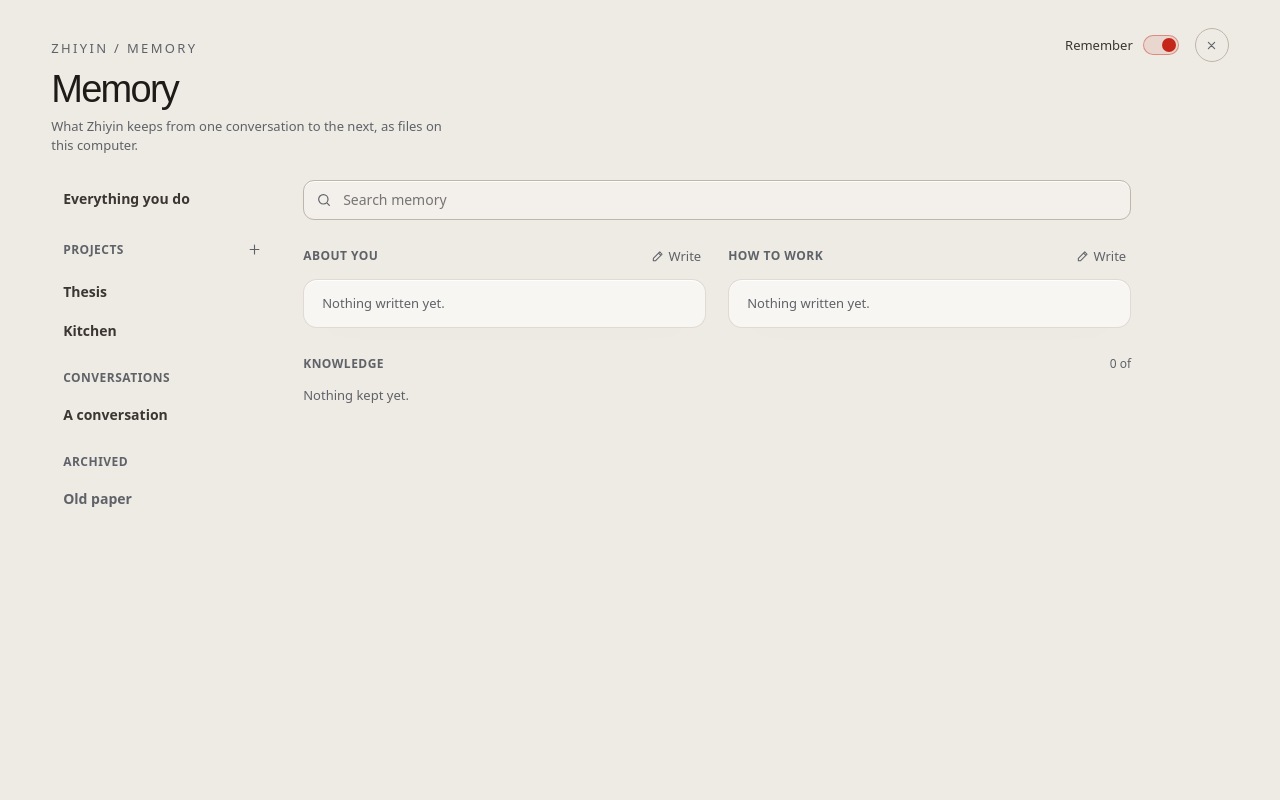
projects on the Memory page › says how a project without folders gathers its conversations
Click the button "Kitchen" at (161, 330), box [51,312,271,349]
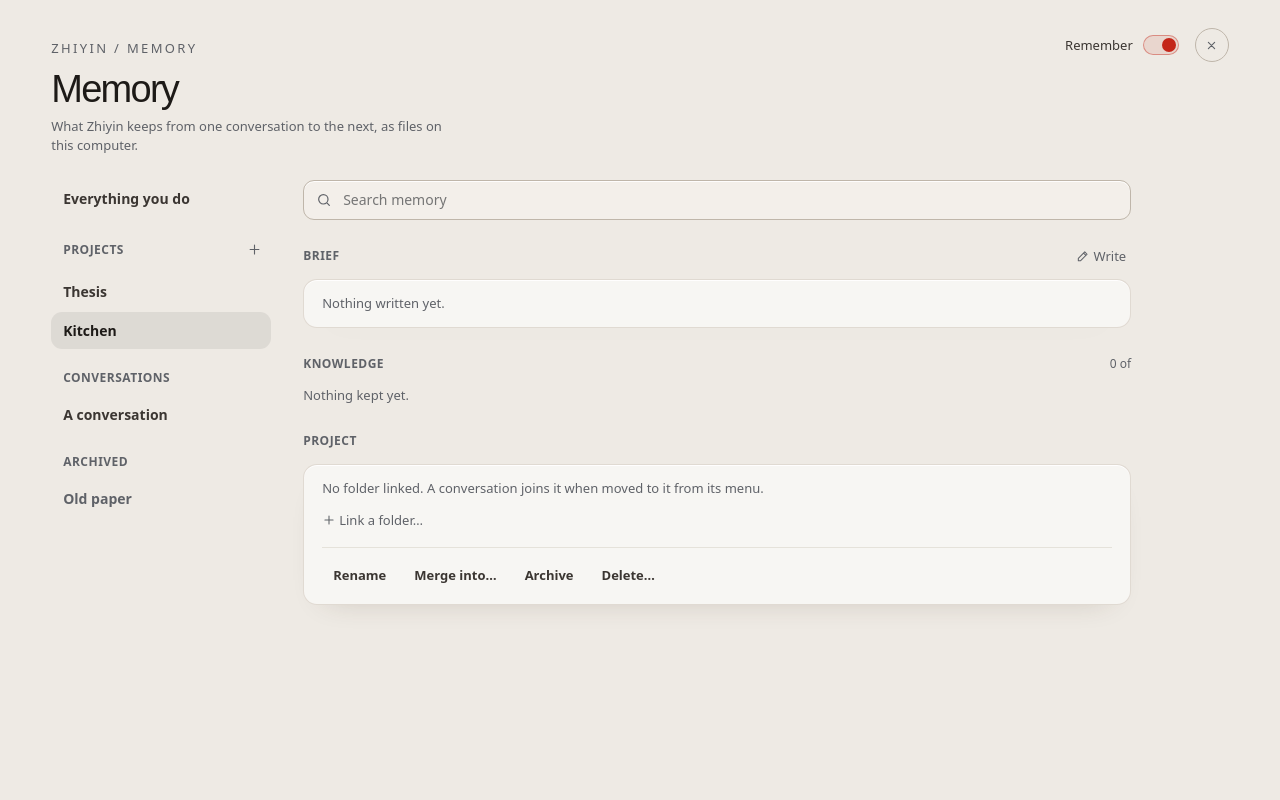
expect the text "No folder linked. A conversation joins it when moved to it from its menu." is shown: met, box [322,479,764,498]
